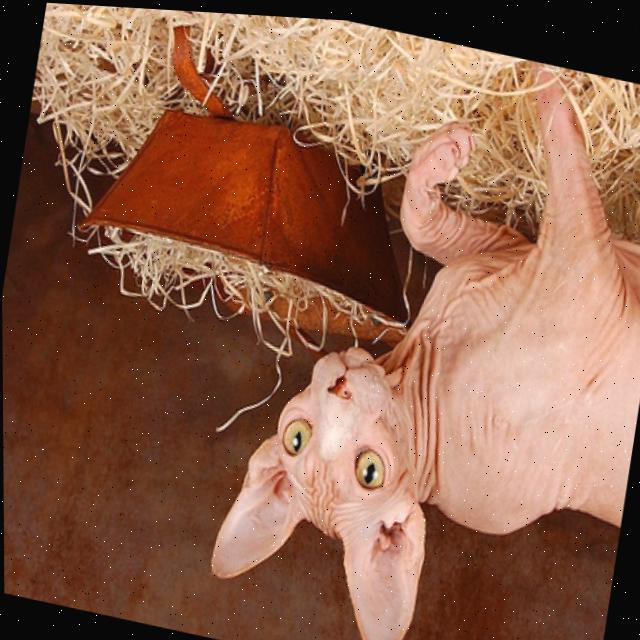Sphynx: (192, 9, 640, 640)
